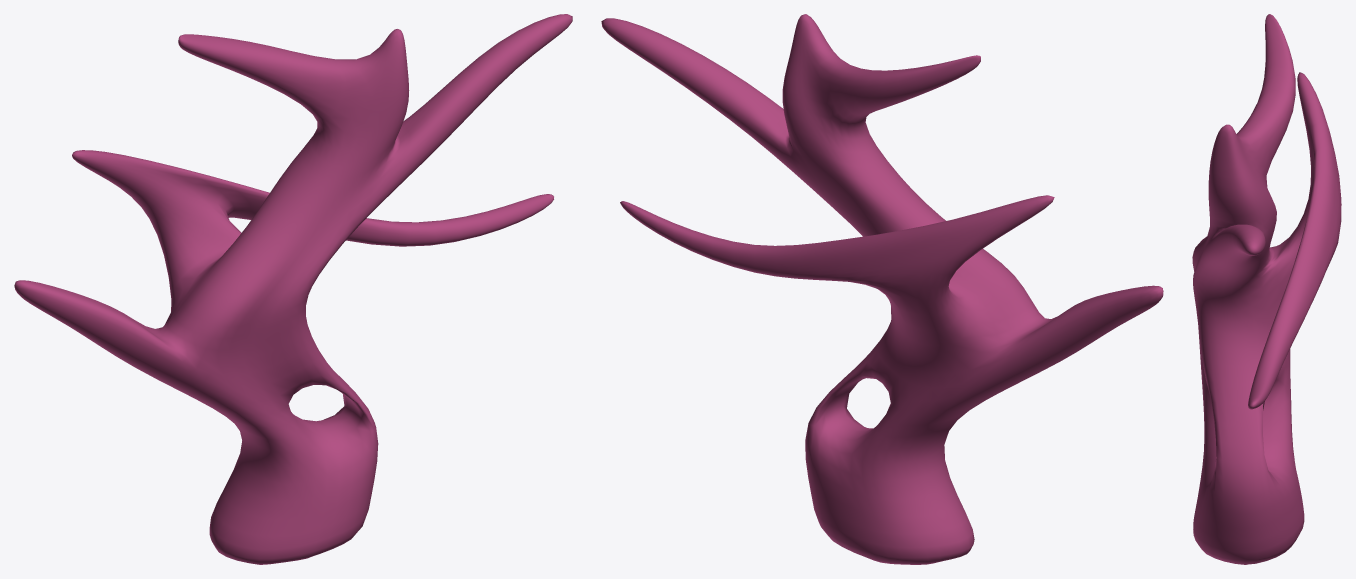
The model's file is junction-v01.glb.
The picture shows the model from 3 angles, left to right: view 1: azimuth 30°, elevation 25°; view 2: azimuth 150°, elevation 25°; view 3: azimuth 270°, elevation 25°; orthographic projection. The views are drawn at different scales.
Parts seen in each view (by area): view 1: Continuous aged trunk and primary branches; view 2: Continuous aged trunk and primary branches; view 3: Continuous aged trunk and primary branches.
Boxes of the visible parts, x1=… form: Continuous aged trunk and primary branches: x1=14, y1=14, x2=572, y2=564; Continuous aged trunk and primary branches: x1=601, y1=14, x2=1163, y2=564; Continuous aged trunk and primary branches: x1=1192, y1=14, x2=1341, y2=564.
Size of the model in its own units: 1.85 by 1.65 by 0.4579.
